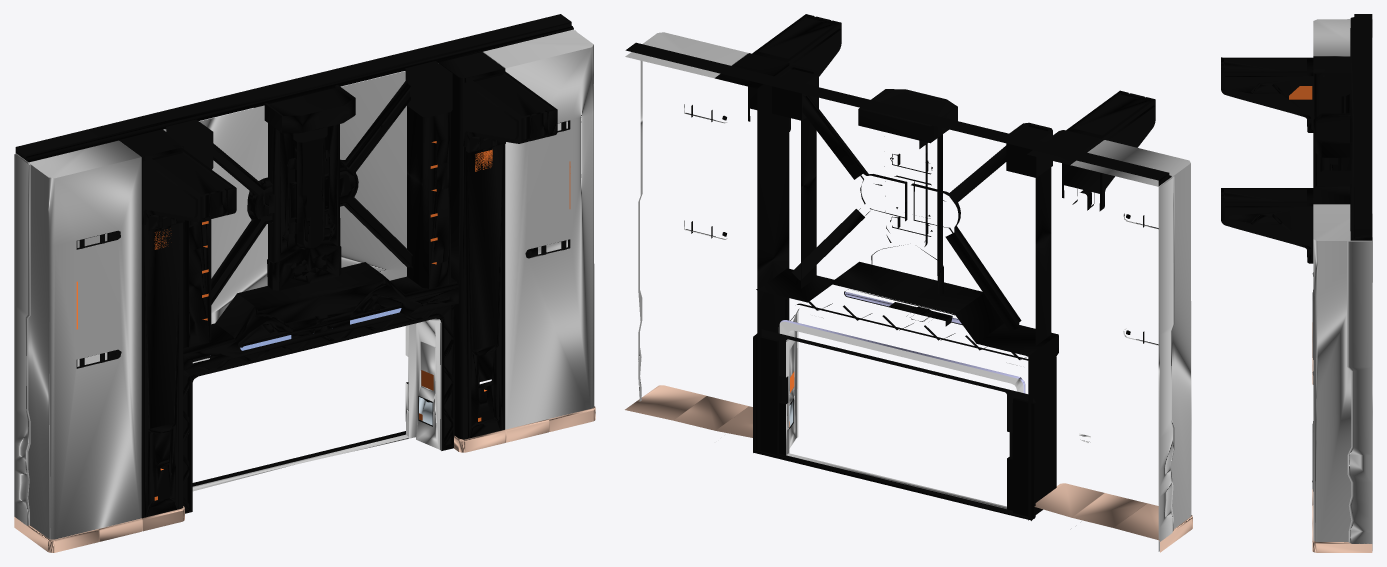
File: hangar_business_v2_medium_door.glb
3 views of the same model, side by side, from view 1: azimuth 30°, elevation 25°; view 2: azimuth 150°, elevation 25°; view 3: azimuth 270°, elevation 25° (orthographic). The views are drawn at different scales.
Size of the model in its own units: 24.12 by 16.01 by 6.95.
